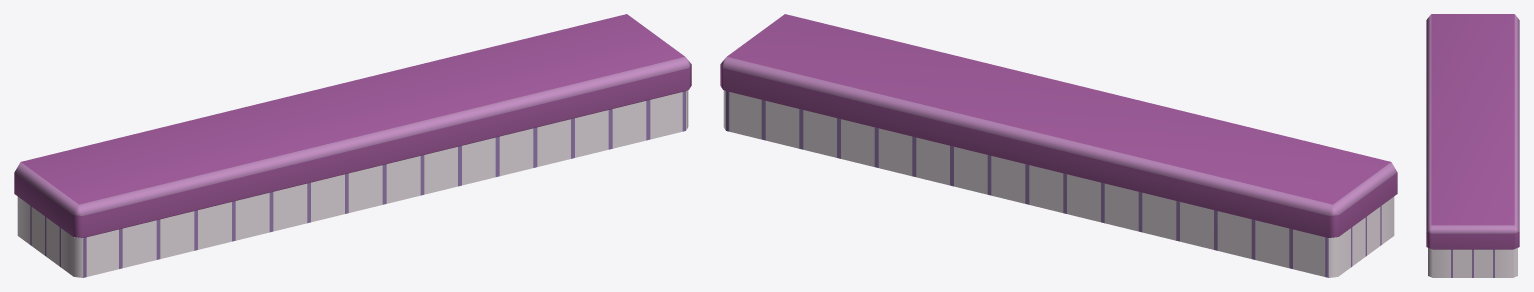
Rendered from Decor_Banbar_A_01.fbx.
The picture shows the model from 3 angles, left to right: view 1: azimuth 30°, elevation 25°; view 2: azimuth 150°, elevation 25°; view 3: azimuth 270°, elevation 25°; orthographic projection. The views are drawn at different scales.
Parts seen in each view (by area): view 1: Decor_Banbar_A_01; view 2: Decor_Banbar_A_01; view 3: Decor_Banbar_A_01.
Boxes of the visible parts, x1,y1,x2,y2 form: Decor_Banbar_A_01: [14, 14, 691, 277]; Decor_Banbar_A_01: [720, 14, 1397, 277]; Decor_Banbar_A_01: [1426, 14, 1519, 277].
Size of the model in its own units: 679 by 75.52 by 125.
